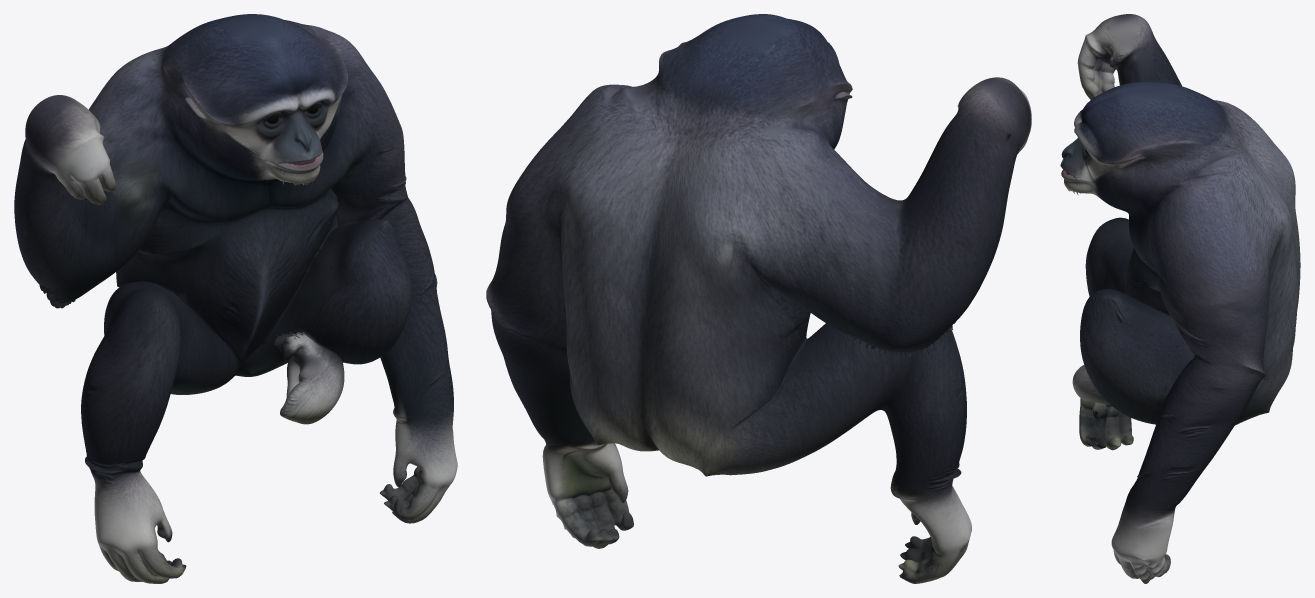
Rendered from monkey-v1.glb.
3 renders of one model, left to right at view 1: azimuth 30°, elevation 25°; view 2: azimuth 150°, elevation 25°; view 3: azimuth 270°, elevation 25°, orthographic. The views are drawn at different scales.
Parts seen in each view (by area): view 1: material; view 2: material; view 3: material.
Boxes of the visible parts, x1=… form: material: x1=14, y1=14, x2=457, y2=583; material: x1=486, y1=14, x2=1031, y2=583; material: x1=1060, y1=14, x2=1300, y2=583.
Bounding box in the file's own units: 0.8372 × 0.9491 × 0.4804.
Materials: 1 (1 with a texture image).
